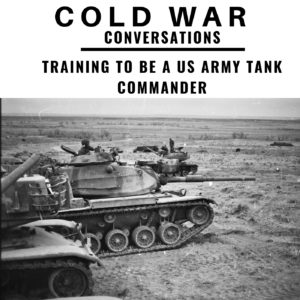Battle Tank: (5, 148, 260, 249)
